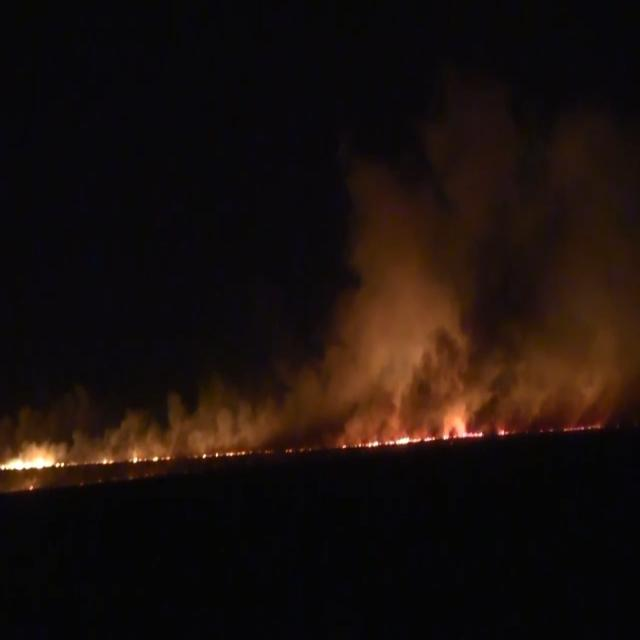Fire: (3, 364, 600, 474)
